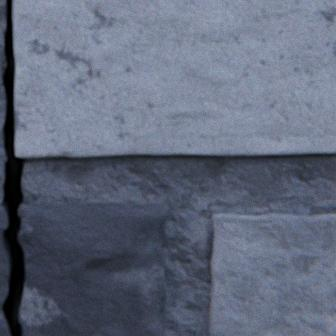brick: (13, 0, 335, 157), (209, 212, 335, 335)
broken_brick: (17, 202, 166, 335), (0, 203, 10, 335)
crack: (0, 0, 26, 335)
